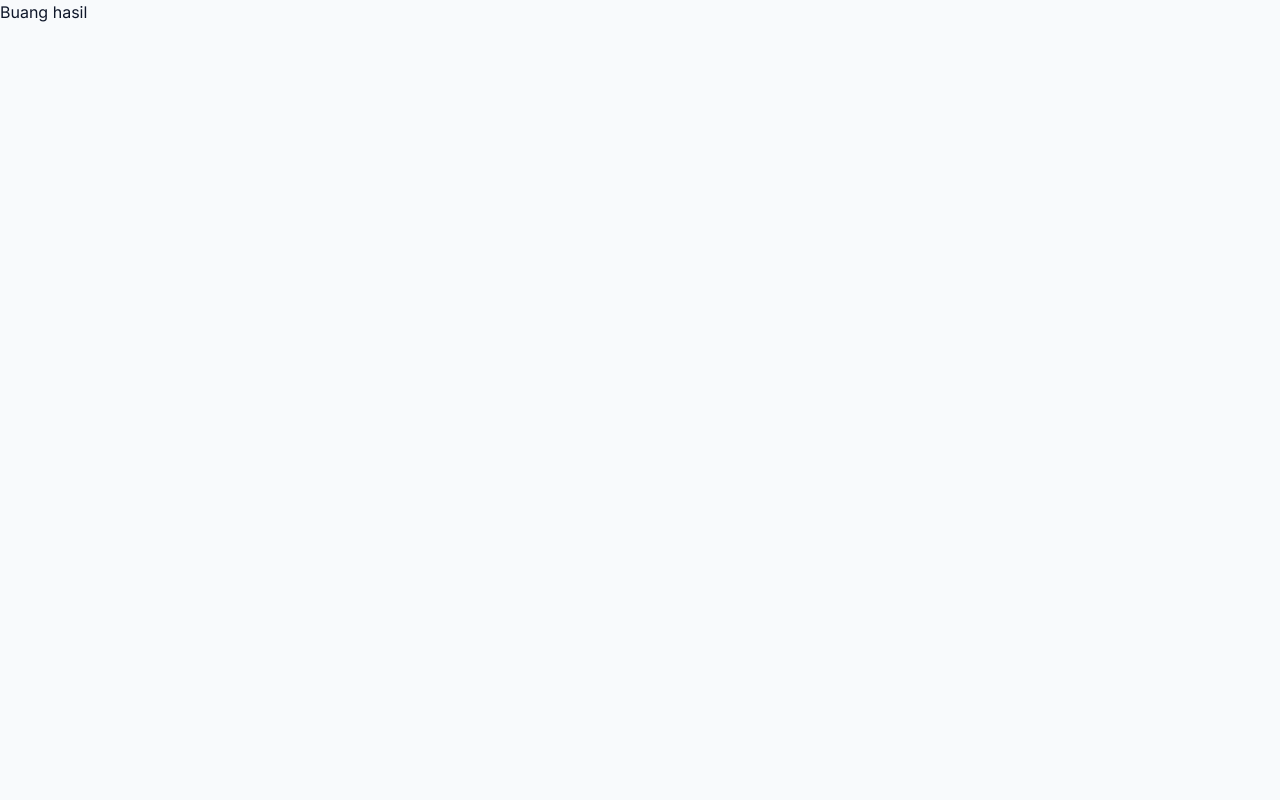
Test: AlertDialog › invokes the confirm callback
Click the button "Buang hasil" at point(44, 12), box [0, 0, 87, 24]
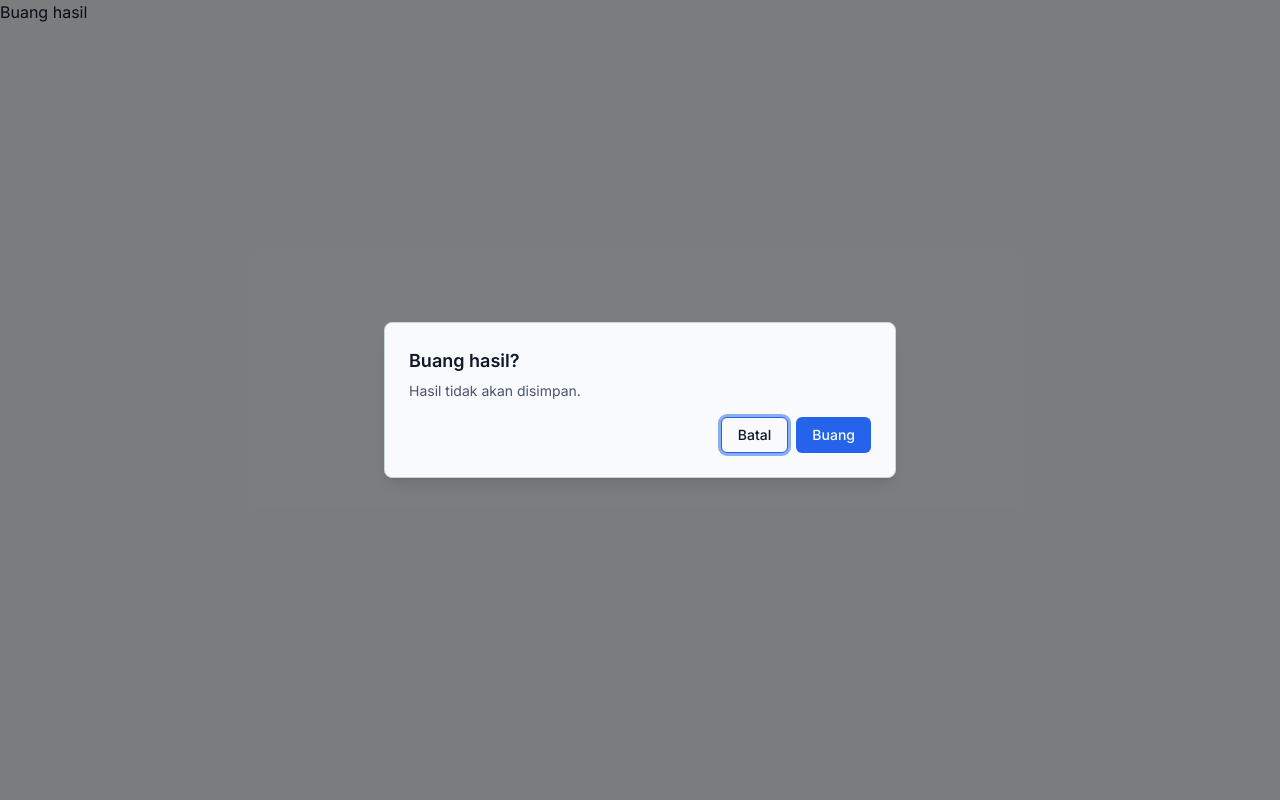
Click the button "Buang" at point(834, 435), box [796, 417, 871, 453]
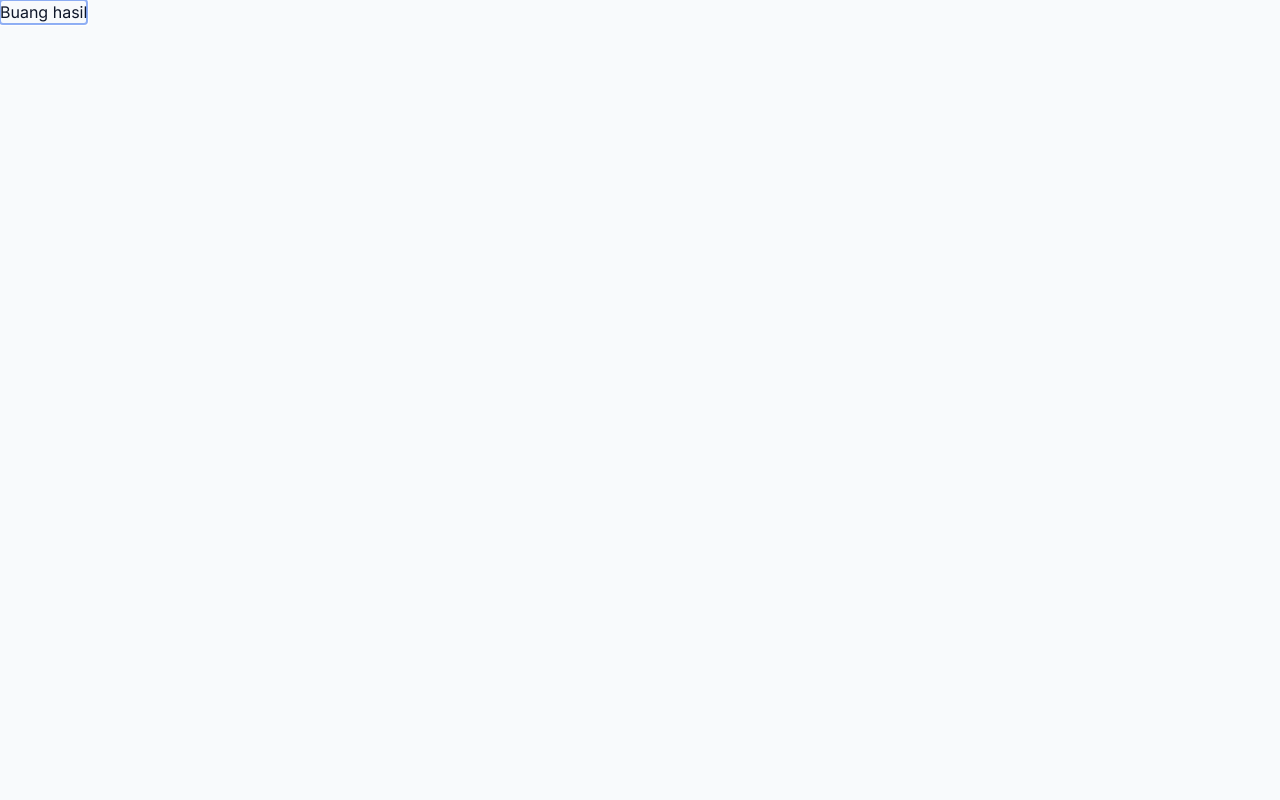
Result: the dialog is gone
